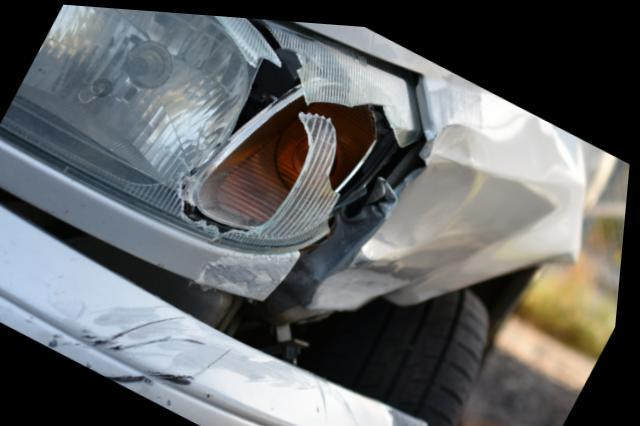dent: (371, 115, 574, 274)
dislocated part: (0, 190, 445, 426)
lamp broken: (0, 4, 422, 251)
scratch: (47, 295, 368, 426), (195, 245, 303, 294)
